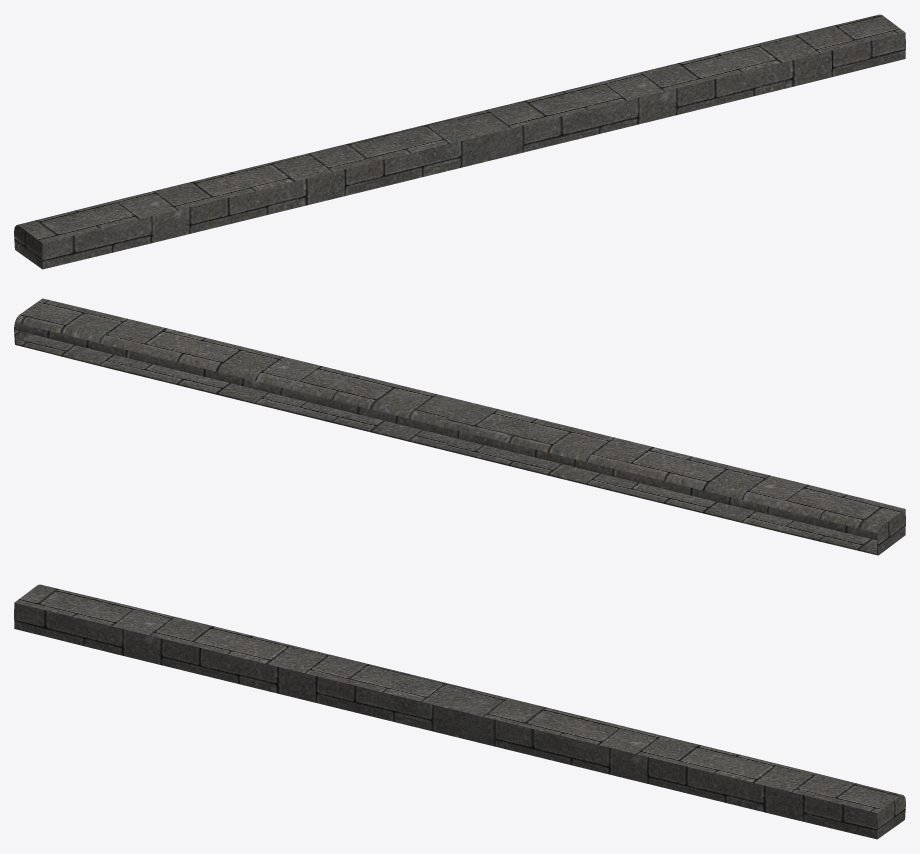
File: the roadar.fbx
3 renders of one model, top to bottom at view 1: azimuth 30°, elevation 25°; view 2: azimuth 150°, elevation 25°; view 3: azimuth 330°, elevation 25°, orthographic.
Visible parts, largest first — view 1: Cube.006; view 2: Cube.006; view 3: Cube.006.
Boxes of the visible parts, x1,y1,x2,y2 form: Cube.006: (14, 14, 905, 269); Cube.006: (14, 298, 905, 555); Cube.006: (14, 584, 905, 839).
Bounding box in the file's own units: 643 × 20.01 × 37.46.
